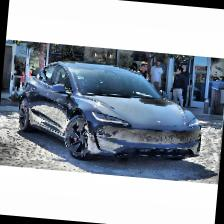EV: (16, 57, 209, 171)
